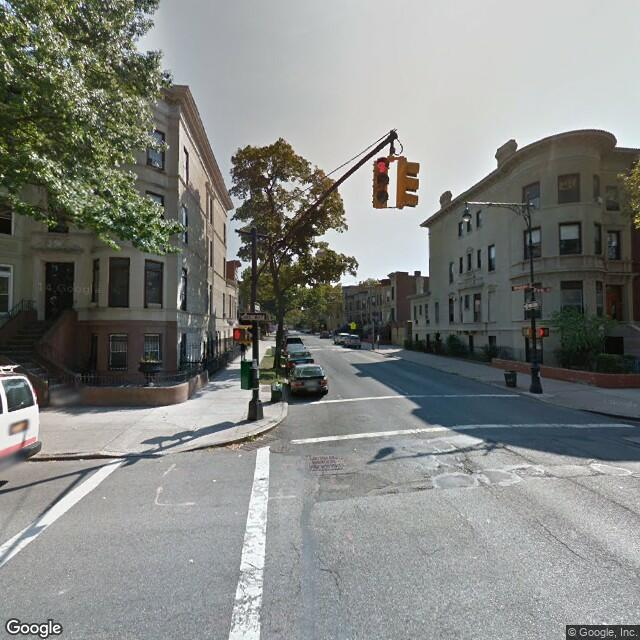litter: (207, 432, 264, 441)
